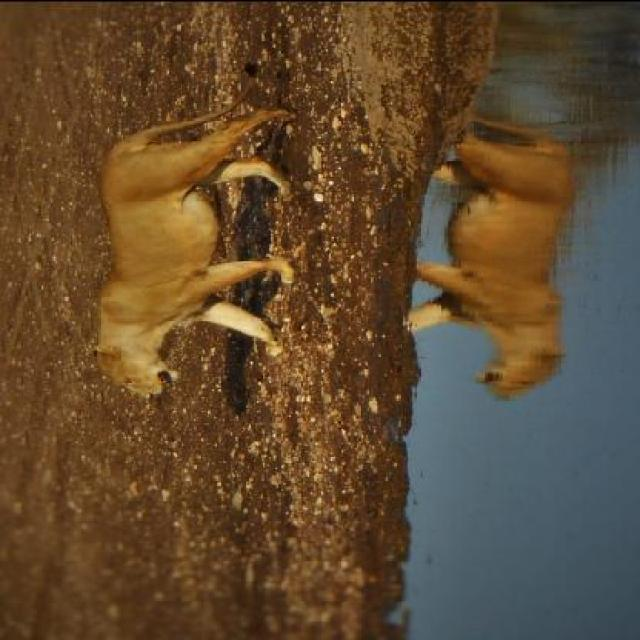Lion: (79, 53, 312, 404)
